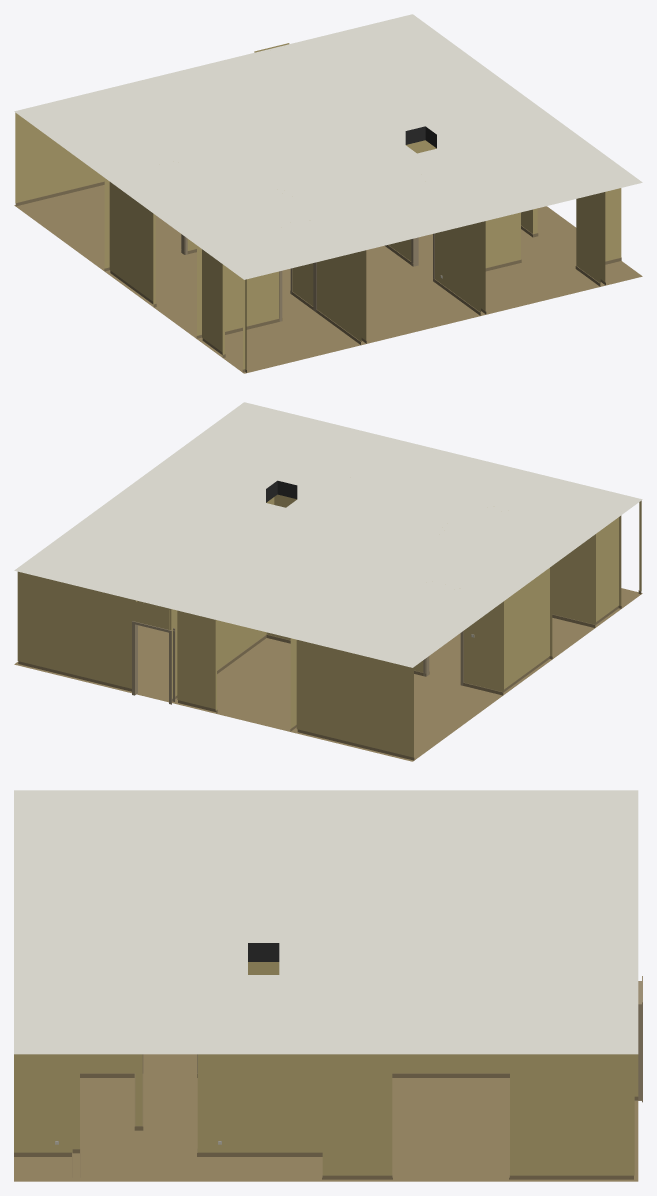
File: chunk_2_4.glb
3 renders of one model, top to bottom at view 1: azimuth 30°, elevation 25°; view 2: azimuth 150°, elevation 25°; view 3: azimuth 270°, elevation 25°, orthographic. The views are drawn at different scales.
Parts seen in each view (by area): view 1: chunk_2_4; view 2: chunk_2_4; view 3: chunk_2_4.
Part boxes in pixels (<box>): chunk_2_4: <box>14,14,642,373</box>; chunk_2_4: <box>14,402,642,761</box>; chunk_2_4: <box>14,790,642,1181</box>.
Bounding box in the file's own units: 12.03 × 3.1 × 12.09.
